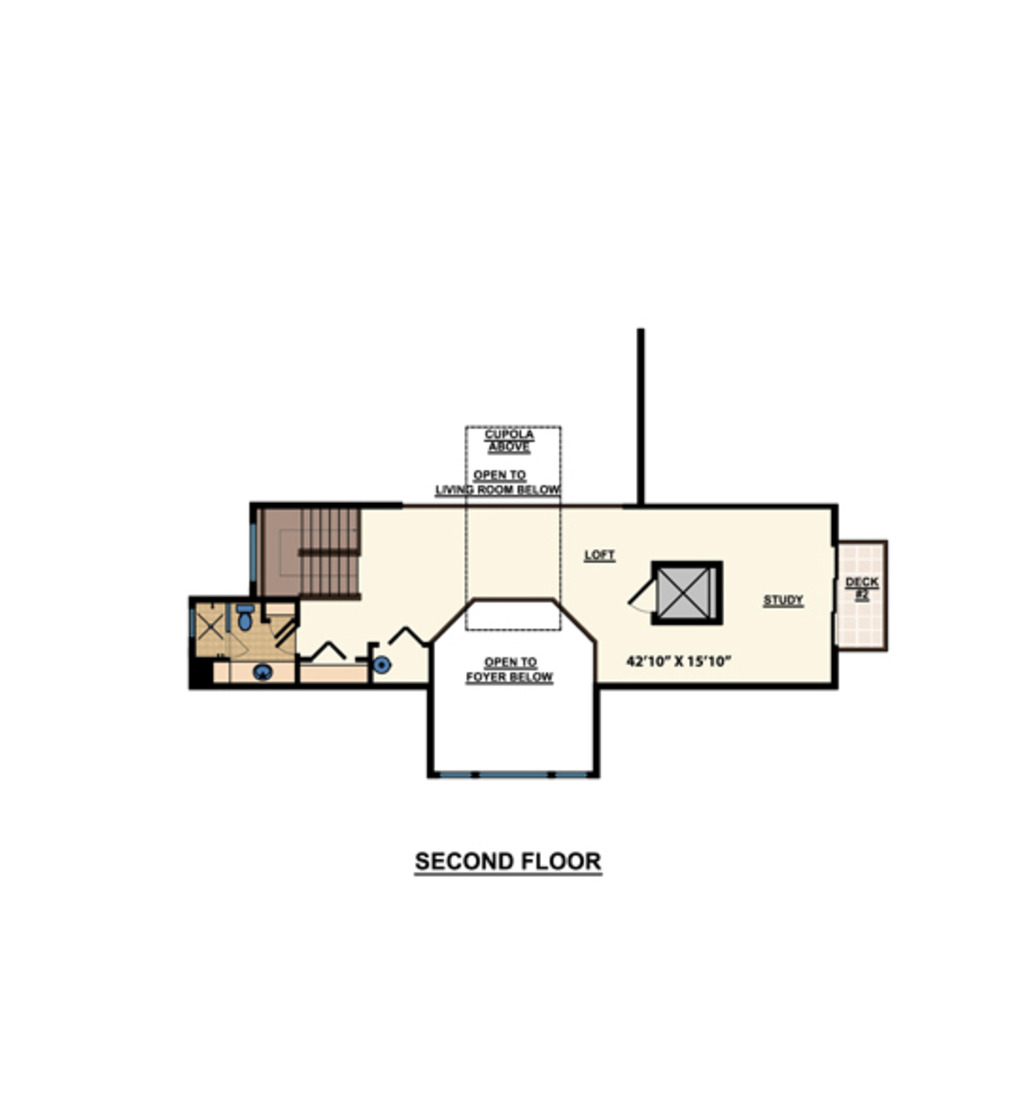door: (624, 579, 655, 612)
stairs: (253, 501, 367, 602)
